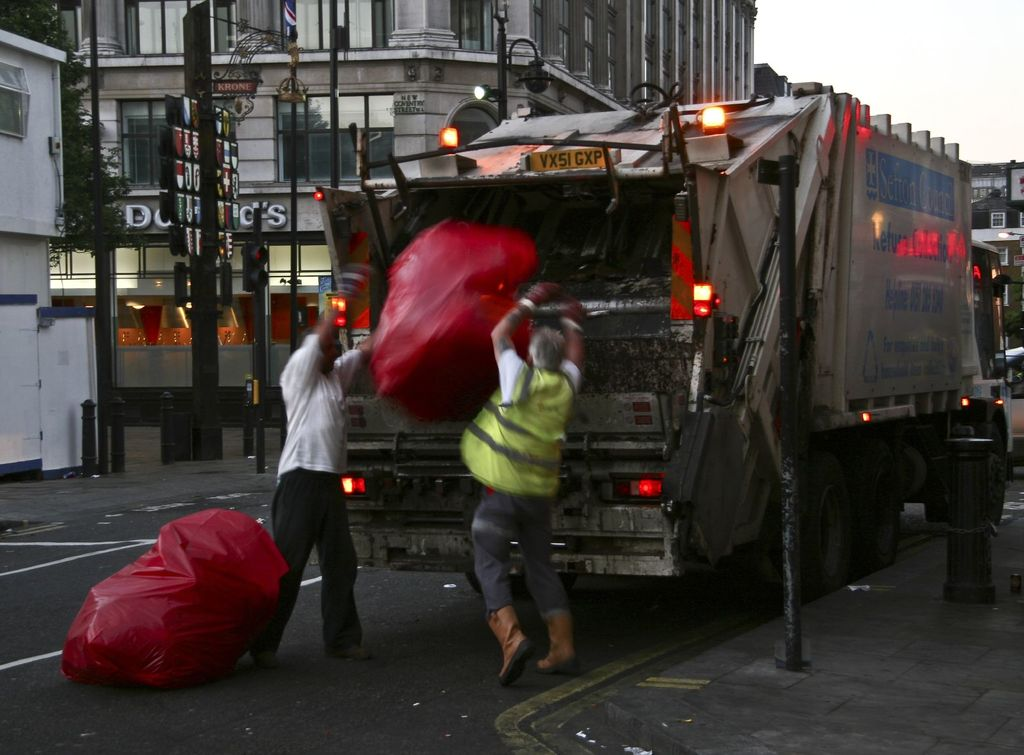cars: (1005, 342, 1023, 480)
